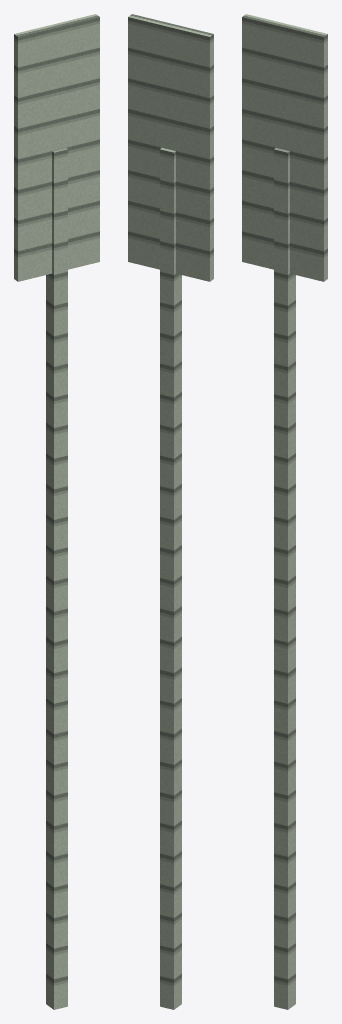
The model's file is traffic_light_signal.glb.
3 views of the same model, side by side, from view 1: azimuth 30°, elevation 25°; view 2: azimuth 150°, elevation 25°; view 3: azimuth 330°, elevation 25° (orthographic).
Parts seen in each view (by area): view 1: traffic_light_signal-col; view 2: traffic_light_signal-col; view 3: traffic_light_signal-col.
Part boxes in pixels (x1,y1,x2,y2): traffic_light_signal-col: (14, 14, 99, 1009); traffic_light_signal-col: (128, 14, 213, 1009); traffic_light_signal-col: (242, 14, 327, 1009).
Size of the model in its own units: 0.35 by 4 by 0.06.
Materials: 1 (1 with a texture image).
